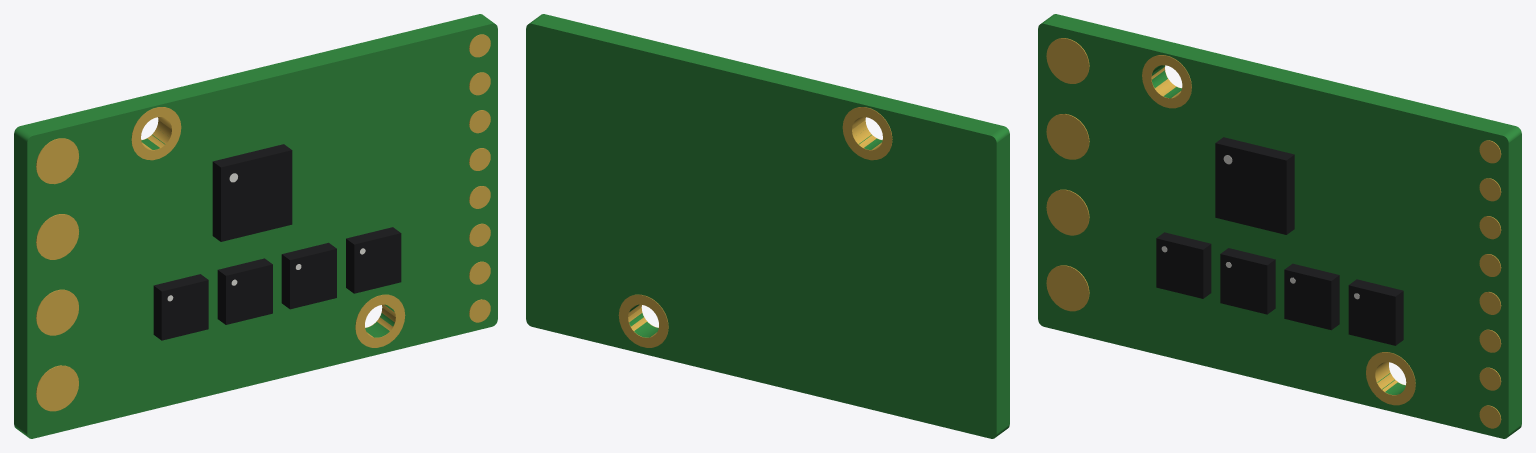
The model's file is pololu-2992-g2-24v13.glb.
3 views of the same model, side by side, from view 1: azimuth 30°, elevation 25°; view 2: azimuth 150°, elevation 25°; view 3: azimuth 330°, elevation 25° (orthographic).
Visible parts, largest first — view 1: board, chip_3, mosfet_1, mosfet_4, mosfet_2, mosfet_3, hole_1, hole_2, pads_2_4, pads_2_1, pads_2_2, pads_2_3; view 2: board, hole_1, hole_2; view 3: board, chip_3, mosfet_3, mosfet_4, mosfet_2, mosfet_1, hole_2, hole_1, pads_2_2, pads_2_1, pads_2_4, pads_2_3.
Part boxes in pixels (left/top/right/bottom): board: left=14, top=14, right=497, bottom=438; chip_3: left=212, top=144, right=292, bottom=241; mosfet_1: left=153, top=274, right=208, bottom=340; mosfet_4: left=346, top=227, right=401, bottom=293; mosfet_2: left=217, top=258, right=272, bottom=324; mosfet_3: left=281, top=242, right=336, bottom=309; hole_1: left=131, top=107, right=181, bottom=160; hole_2: left=355, top=294, right=405, bottom=347; pads_2_4: left=36, top=138, right=78, bottom=184; pads_2_1: left=36, top=365, right=78, bottom=411; pads_2_2: left=36, top=289, right=78, bottom=335; pads_2_3: left=36, top=214, right=78, bottom=259; board: left=526, top=14, right=1009, bottom=438; hole_1: left=842, top=107, right=892, bottom=160; hole_2: left=618, top=294, right=668, bottom=347; board: left=1038, top=14, right=1521, bottom=438; chip_3: left=1215, top=137, right=1294, bottom=234; mosfet_3: left=1284, top=263, right=1339, bottom=330; mosfet_4: left=1348, top=279, right=1403, bottom=345; mosfet_2: left=1220, top=248, right=1275, bottom=314; mosfet_1: left=1156, top=232, right=1211, bottom=298; hole_2: left=1366, top=352, right=1415, bottom=405; hole_1: left=1142, top=55, right=1191, bottom=108; pads_2_2: left=1046, top=189, right=1089, bottom=235; pads_2_1: left=1046, top=265, right=1089, bottom=311; pads_2_4: left=1046, top=38, right=1089, bottom=83; pads_2_3: left=1046, top=114, right=1089, bottom=159.
Bounding box in the file's own units: 33.02 × 20.32 × 2.65.
